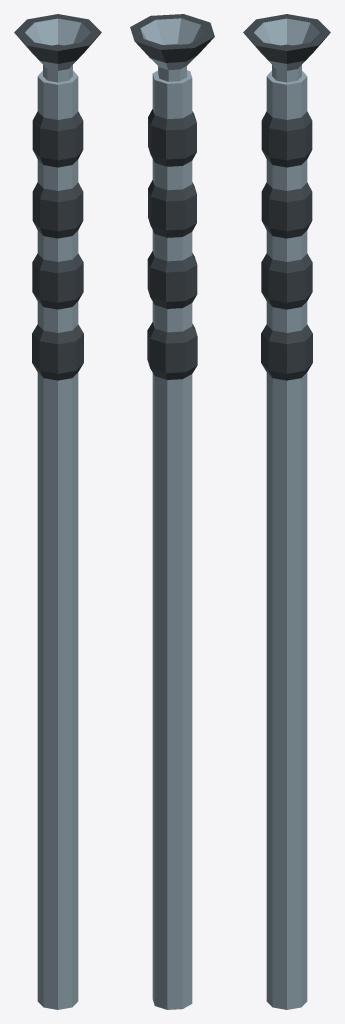
Rendered from pole.fbx.
3 views of the same model, side by side, from view 1: azimuth 90°, elevation 25°; view 2: azimuth 210°, elevation 25°; view 3: azimuth 270°, elevation 25° (orthographic).
Parts seen in each view (by area): view 1: pole; view 2: pole; view 3: pole.
Boxes of the visible parts, x1,y1,x2,y2 form: pole: (14, 14, 101, 1009); pole: (130, 14, 214, 1009); pole: (243, 14, 330, 1009).
Size of the model in its own units: 28.09 by 342 by 28.09.
